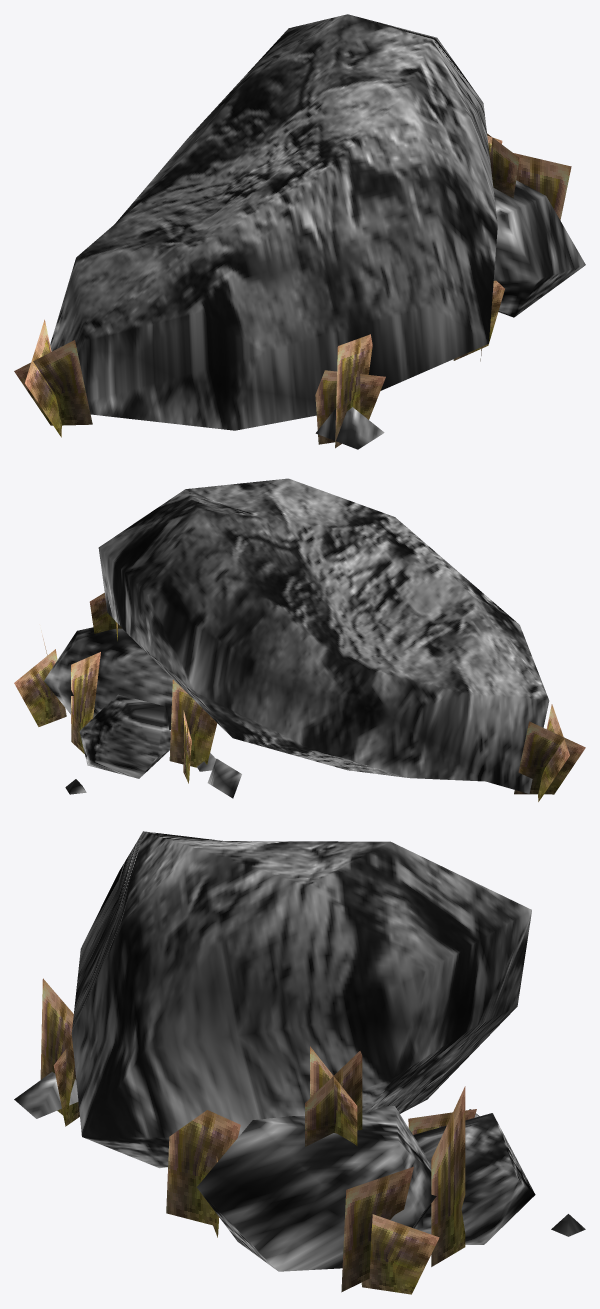
The model's file is Stone01.obj.
The picture shows the model from 3 angles, top to bottom: view 1: azimuth 30°, elevation 25°; view 2: azimuth 150°, elevation 25°; view 3: azimuth 270°, elevation 25°; orthographic projection. The views are drawn at different scales.
Parts seen in each view (by area): view 1: Mesh_0, Mesh_1; view 2: Mesh_0, Mesh_1; view 3: Mesh_0, Mesh_1.
Boxes of the visible parts, box(x1,y1,x2,y2) form: Mesh_0: box(50, 14, 585, 449); Mesh_1: box(14, 133, 571, 448); Mesh_0: box(44, 478, 549, 798); Mesh_1: box(14, 593, 585, 801); Mesh_0: box(14, 831, 585, 1271); Mesh_1: box(40, 978, 476, 1294).
Size of the model in its own units: 4.12 by 2.05 by 2.86.
Materials: 2 (2 with a texture image).
